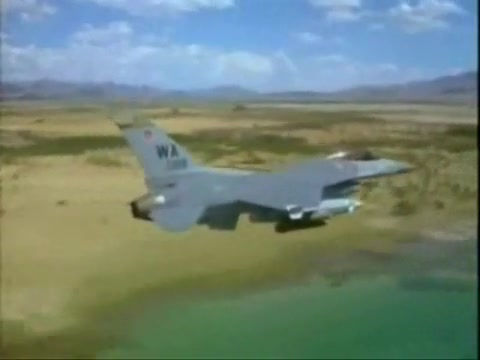aeroplane: (114, 123, 414, 235)
